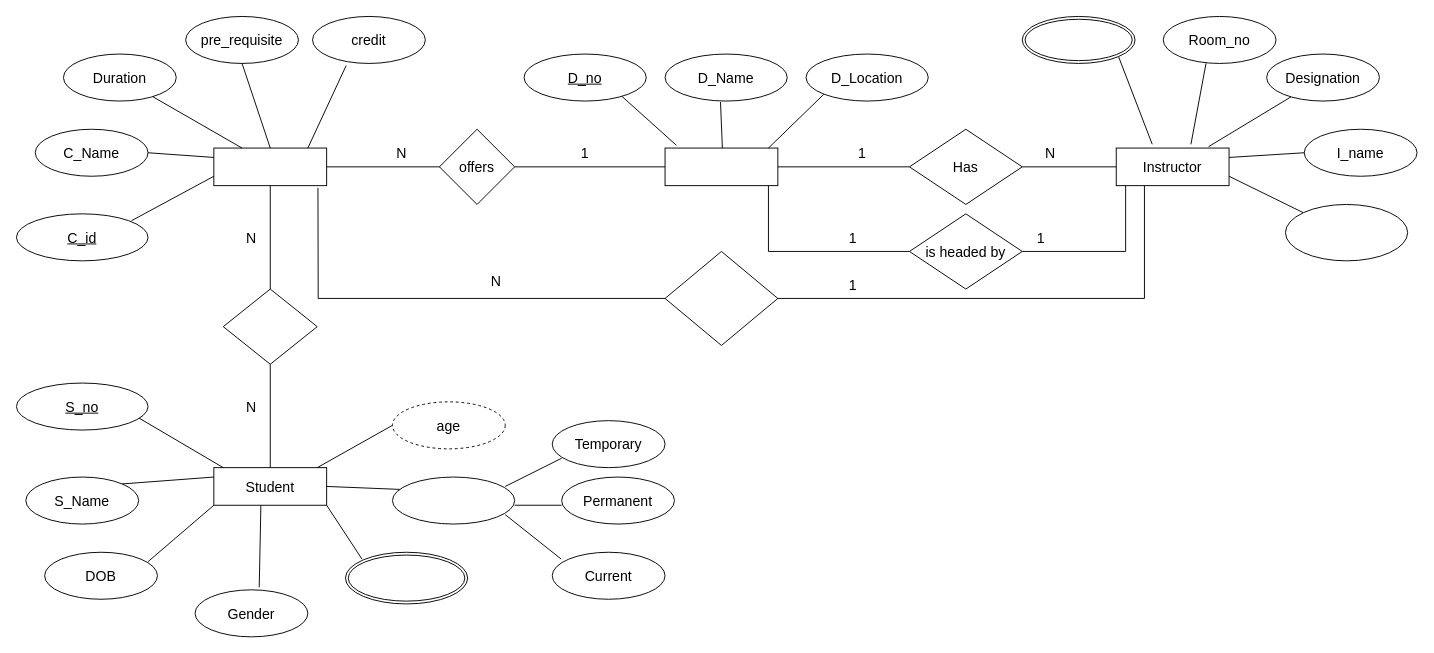
The diagram is 1434 pixels wide and 653 high, and some of its shapes have lost their labels. The shapes that lost their labels are listed below. From the top down, each one's box as (x1, y1, x2, y2) in pixels, then its label:
(1021, 16, 1135, 63): mobile_no
(213, 147, 327, 186): course
(664, 147, 778, 186): Department
(1285, 204, 1408, 261): I_no
(664, 251, 778, 345): is taught by
(222, 288, 317, 364): enrollled by
(392, 476, 515, 524): Address
(345, 551, 468, 604): Email
